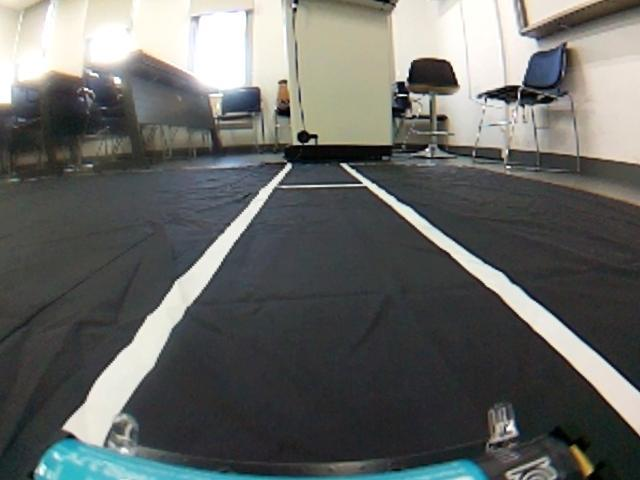straight: (0, 176, 640, 480)
